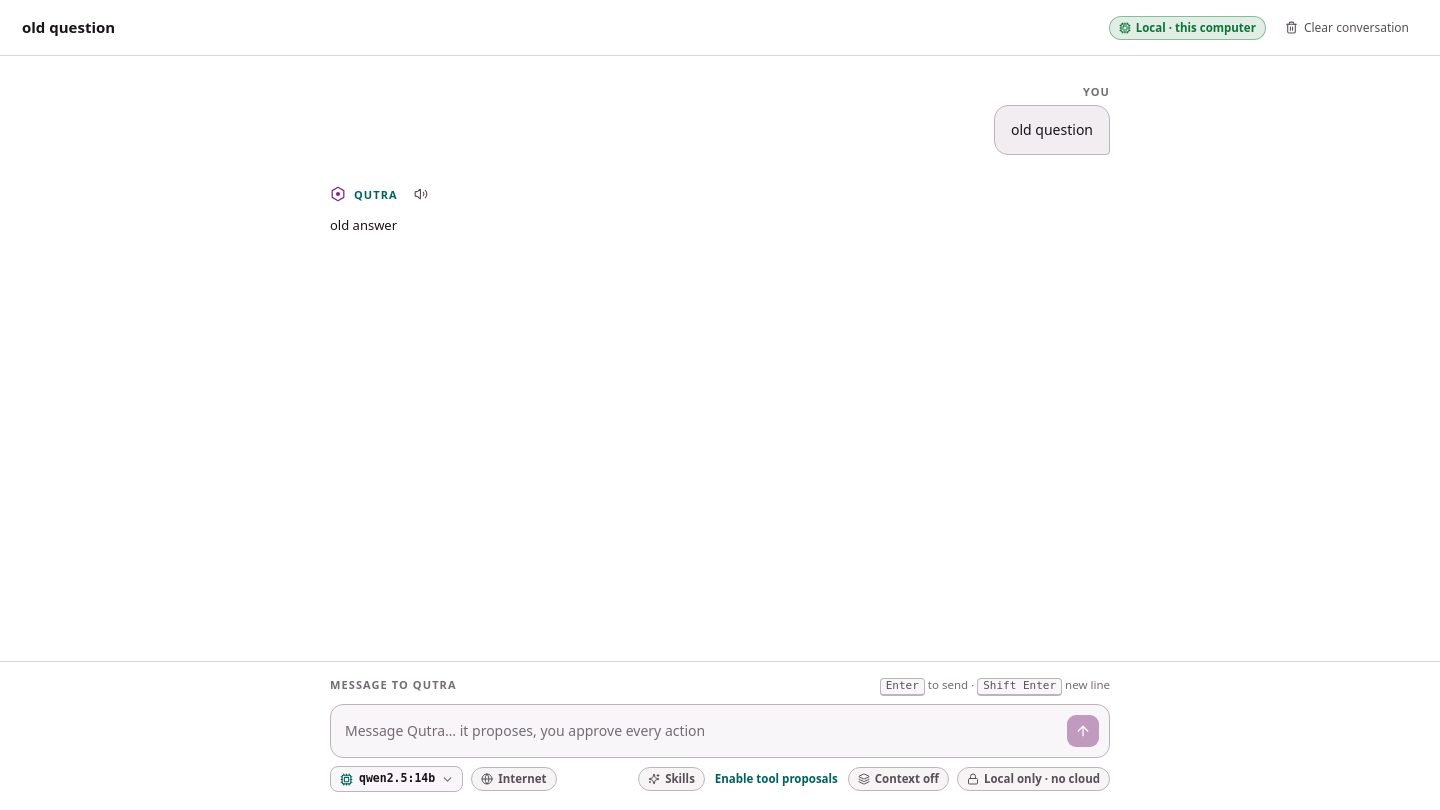
Scenario: an erase that does not reach disk is not reported as done › keeps the transcript on screen and says it is still stored
This screenshot has width=1440, height=810.
Click the button "Clear conversation".
click(1347, 28)  # box [1276, 14, 1418, 40]
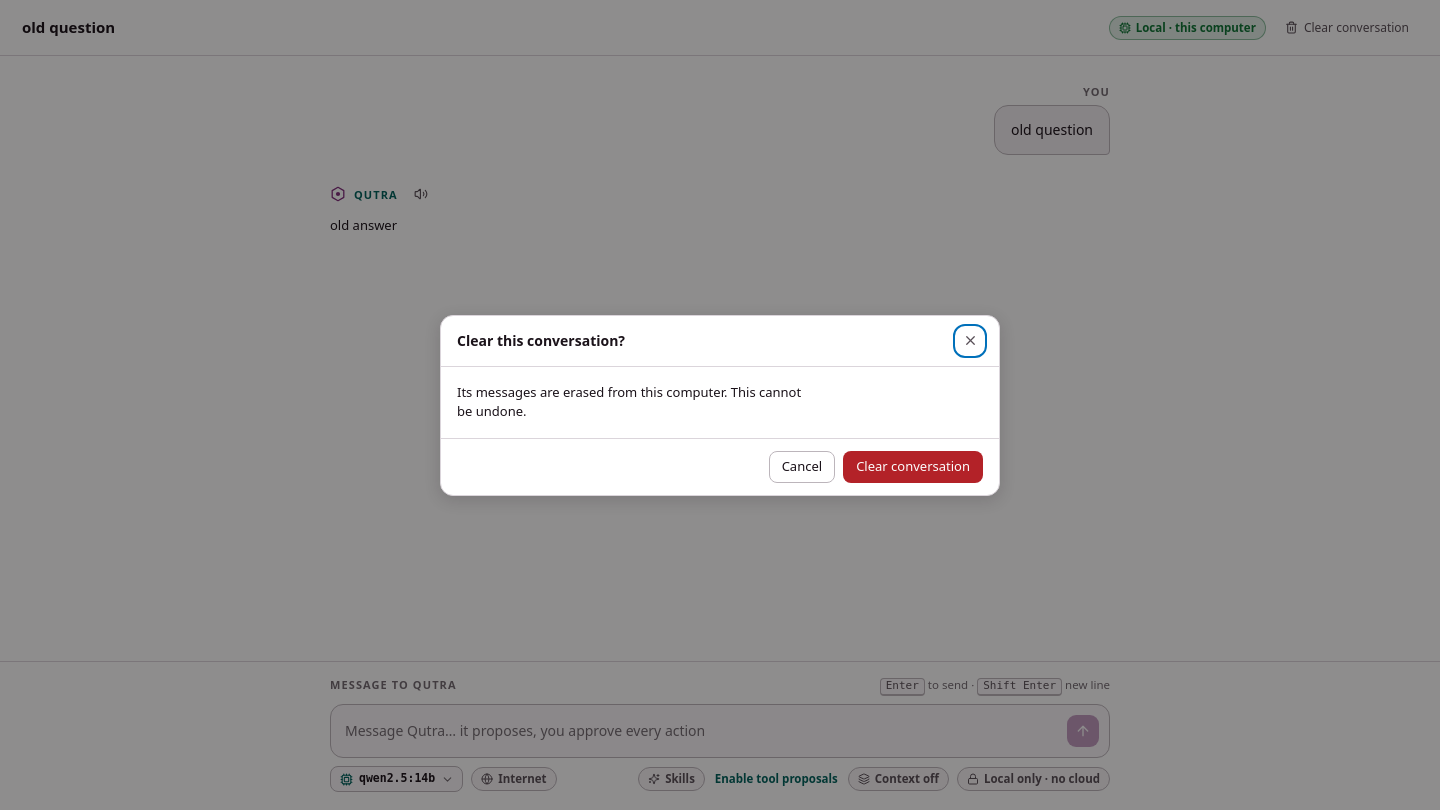
Click the button "Clear conversation".
click(913, 466)  # box [843, 450, 983, 482]
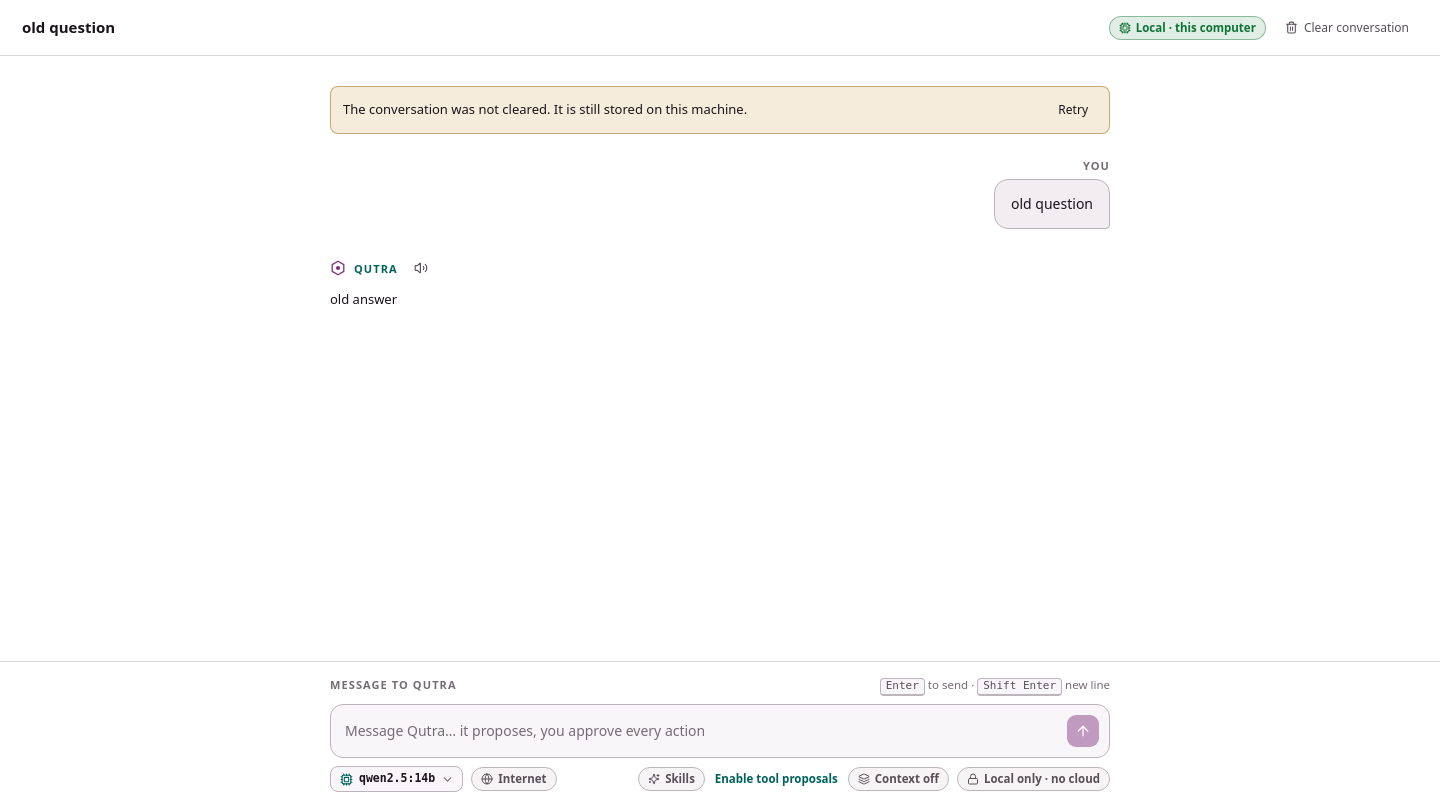
Expected: the text "old question" is shown, [994, 179, 1110, 229]
Expected: the message shows "The conversation was not cleared. It is still stored on this machine.", [343, 100, 747, 118]
